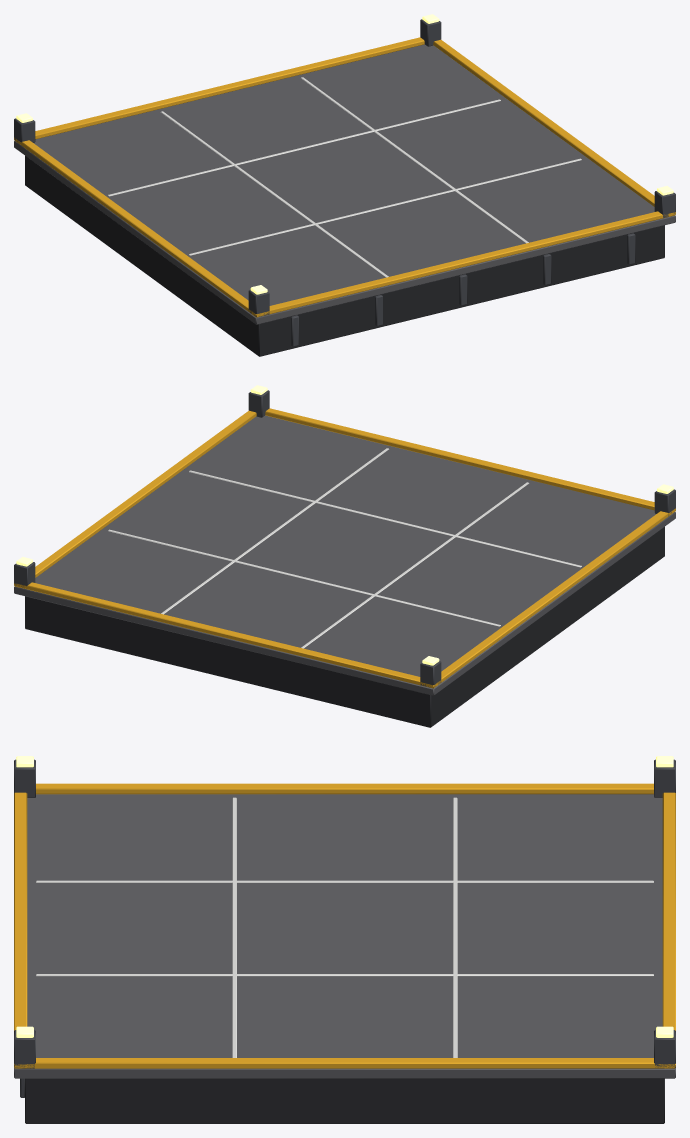
The model's file is Floor_Platform.glb.
3 renders of one model, top to bottom at view 1: azimuth 30°, elevation 25°; view 2: azimuth 150°, elevation 25°; view 3: azimuth 270°, elevation 25°, orthographic. The views are drawn at different scales.
Visible parts, largest first — view 1: Floor_Platform; view 2: Floor_Platform; view 3: Floor_Platform.
Boxes of the visible parts, x1,y1,x2,y2 form: Floor_Platform: [14, 14, 675, 356]; Floor_Platform: [14, 385, 675, 727]; Floor_Platform: [14, 756, 675, 1123].
Bounding box in the file's own units: 6 × 0.945 × 6.
